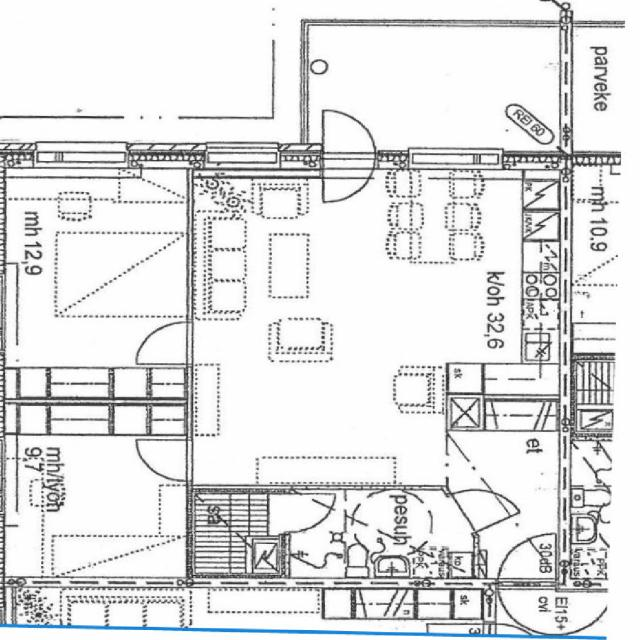door: (447, 474, 521, 534), (498, 530, 555, 589), (498, 578, 555, 637), (323, 153, 375, 211), (323, 110, 375, 168), (136, 322, 192, 364), (138, 440, 192, 480), (283, 494, 334, 532)
